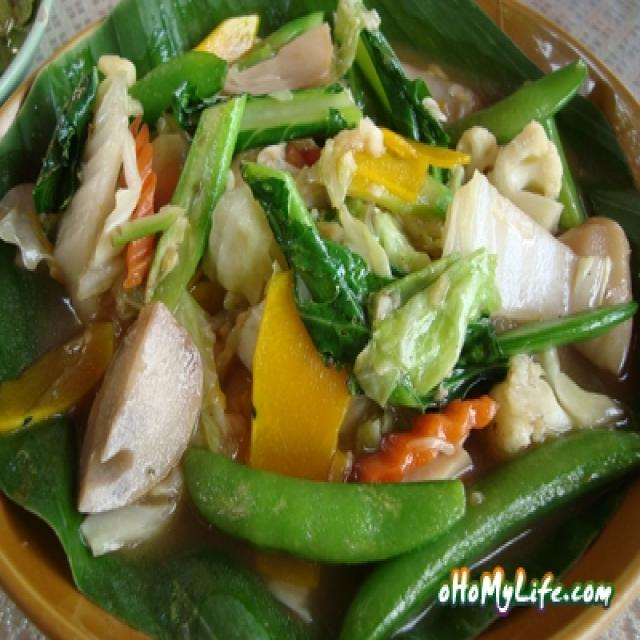蔬菜料理: (13, 17, 613, 623)
